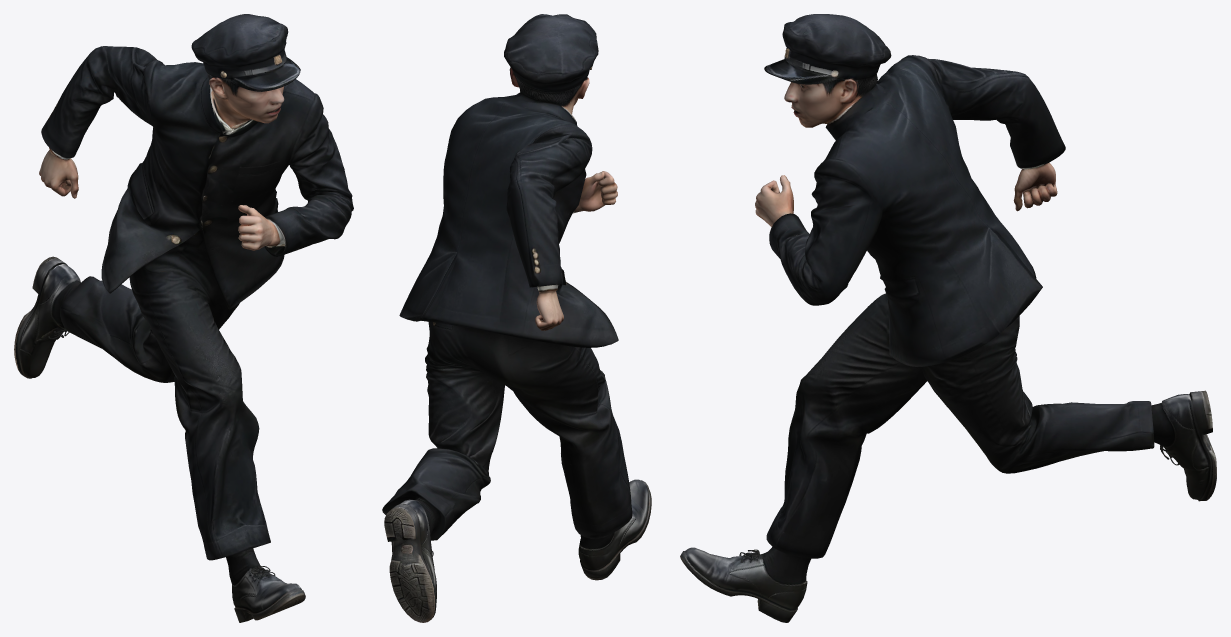
The model's file is run_man_1-3dac908ab4.glb.
The picture shows the model from 3 angles, left to right: view 1: azimuth 30°, elevation 25°; view 2: azimuth 150°, elevation 25°; view 3: azimuth 270°, elevation 25°; orthographic projection. The views are drawn at different scales.
Visible parts, largest first — view 1: tripo_node_e46441f9-a631-4c18-89da-7529d2f51d12; view 2: tripo_node_e46441f9-a631-4c18-89da-7529d2f51d12; view 3: tripo_node_e46441f9-a631-4c18-89da-7529d2f51d12.
Part boxes in pixels (x1,y1,x2,y2): tripo_node_e46441f9-a631-4c18-89da-7529d2f51d12: (14, 14, 353, 622); tripo_node_e46441f9-a631-4c18-89da-7529d2f51d12: (382, 14, 651, 622); tripo_node_e46441f9-a631-4c18-89da-7529d2f51d12: (680, 14, 1216, 622).
Bounding box in the file's own units: 0.3745 × 0.9995 × 0.7934.
Materials: 1 (1 with a texture image).
